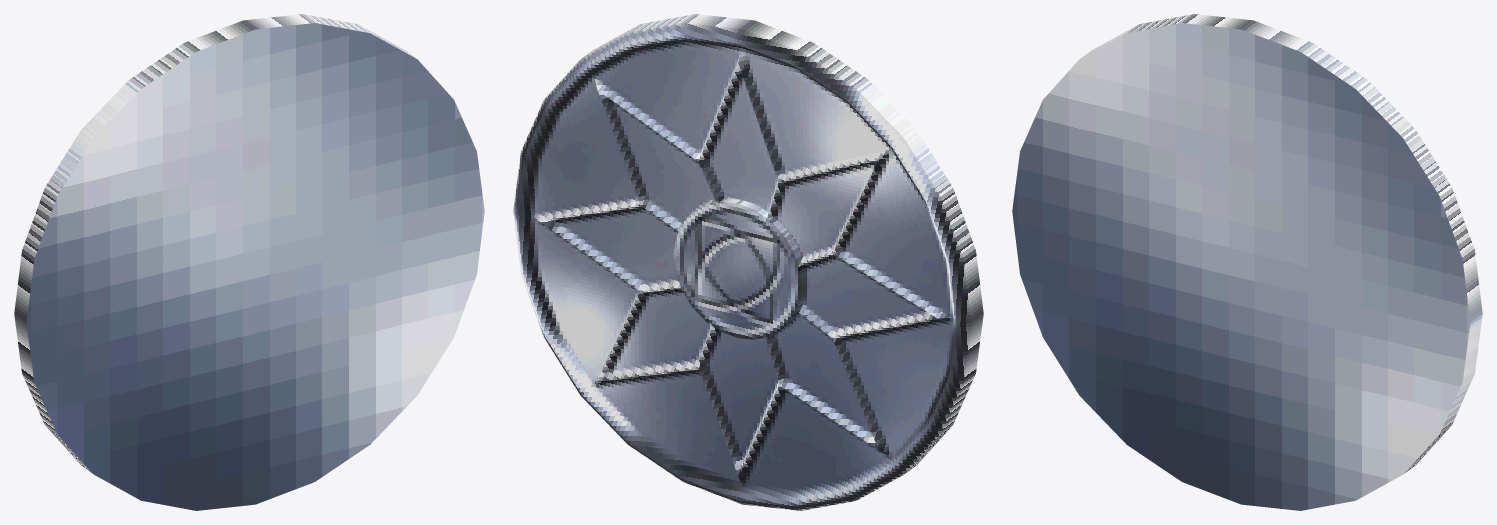
Rendered from ps2_save-icons_cartagra.glb.
3 views of the same model, side by side, from view 1: azimuth 30°, elevation 25°; view 2: azimuth 150°, elevation 25°; view 3: azimuth 330°, elevation 25° (orthographic).
Parts seen in each view (by area): view 1: icon.ico; view 2: icon.ico; view 3: icon.ico.
Part boxes in pixels (<box>): icon.ico: <box>14,14,484,510</box>; icon.ico: <box>513,14,983,510</box>; icon.ico: <box>1012,14,1482,510</box>.
Bounding box in the file's own units: 4.76 × 4.72 × 0.3167.
Materials: 1 (1 with a texture image).
